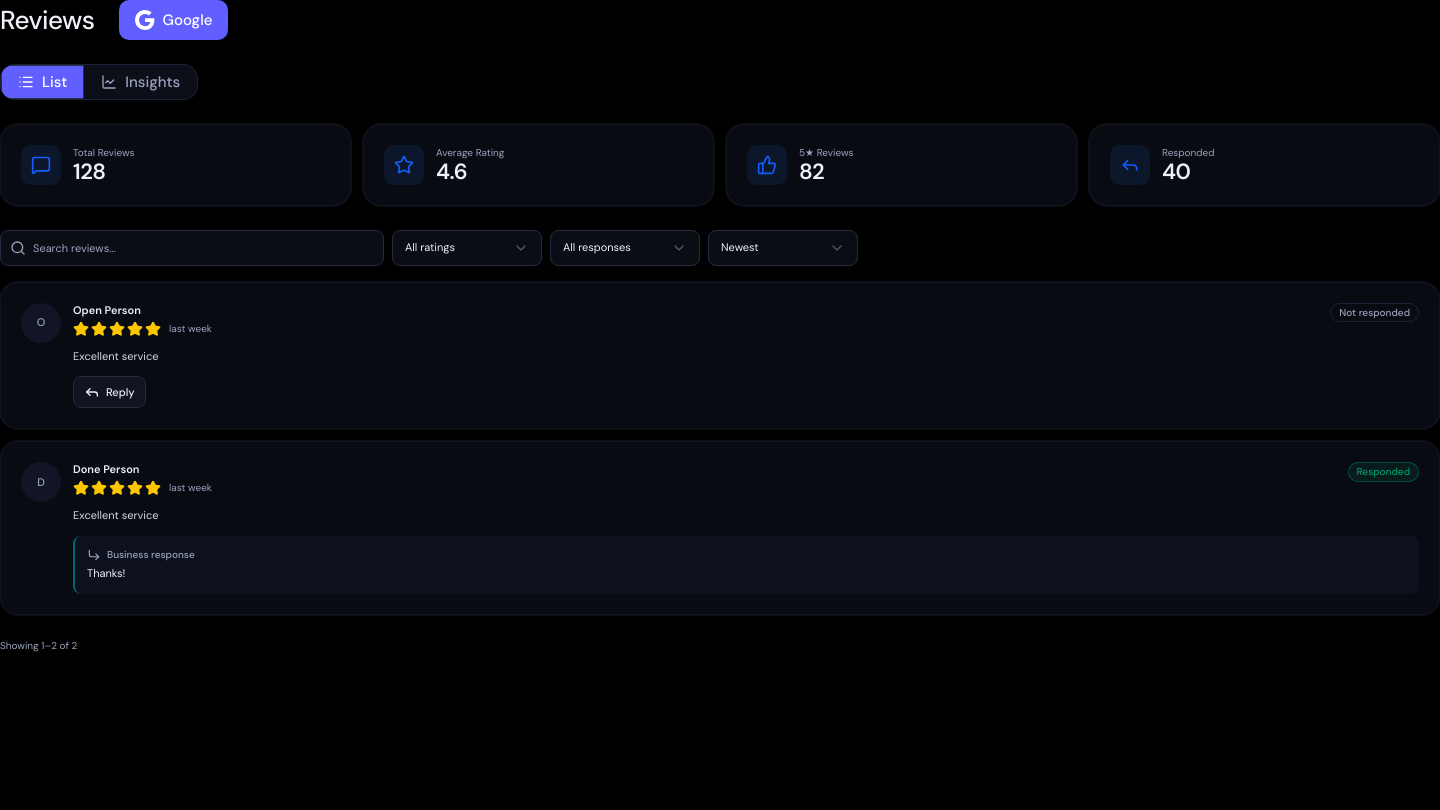
Test: Business Profile Reviews page › reply flow › disables submit and cannot be double-submitted while pending
The width and height of the screenshot is (1440, 810).
Click the button with aria-label "Reply to Open Person".
click(109, 392)  # box [73,376,146,408]
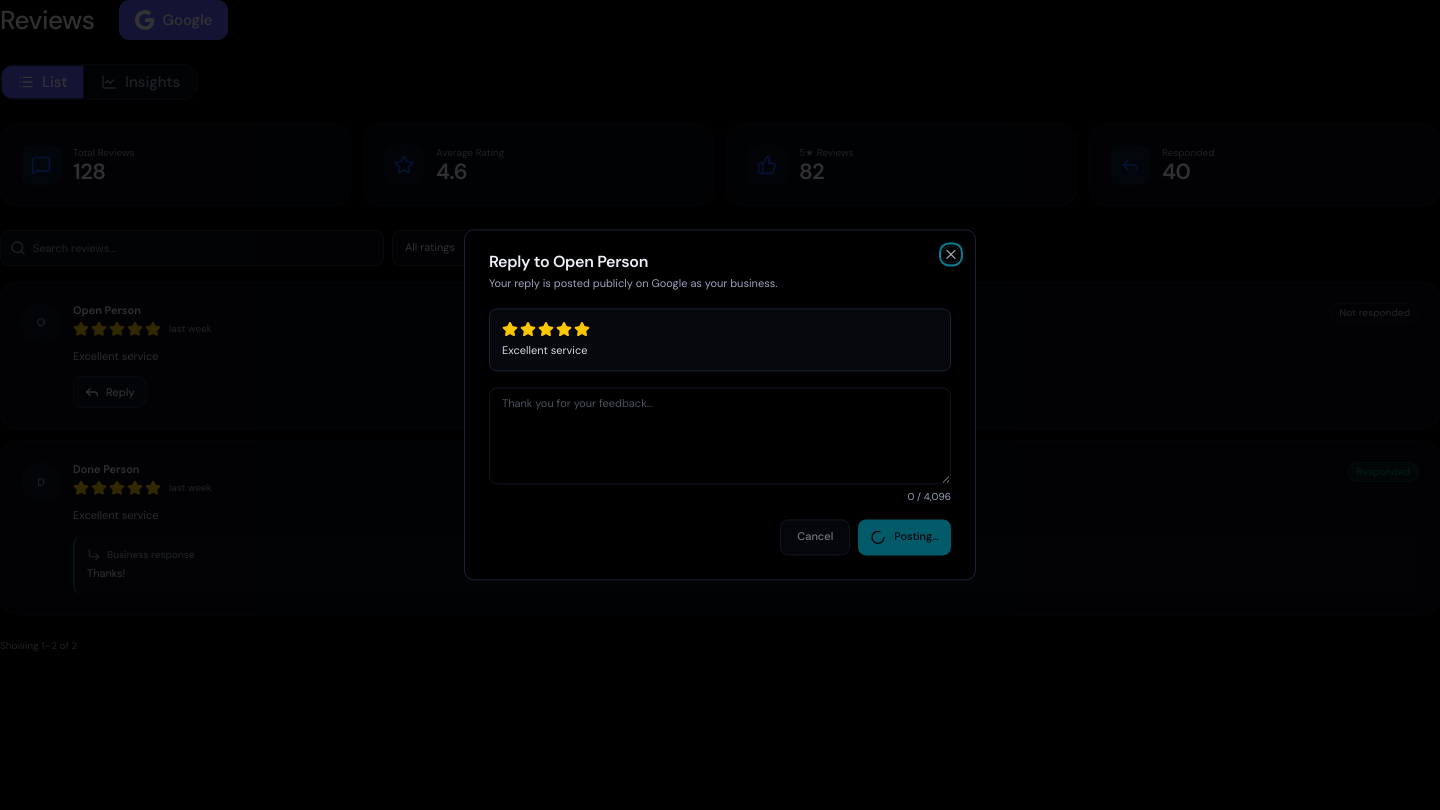
Expected: the button "Posting…" is disabled, [858,520,951,556]
